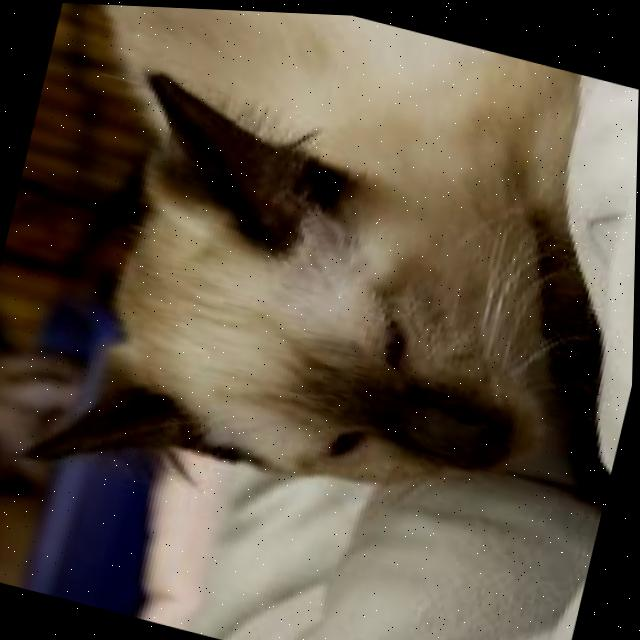Siamese: (0, 0, 640, 603)
